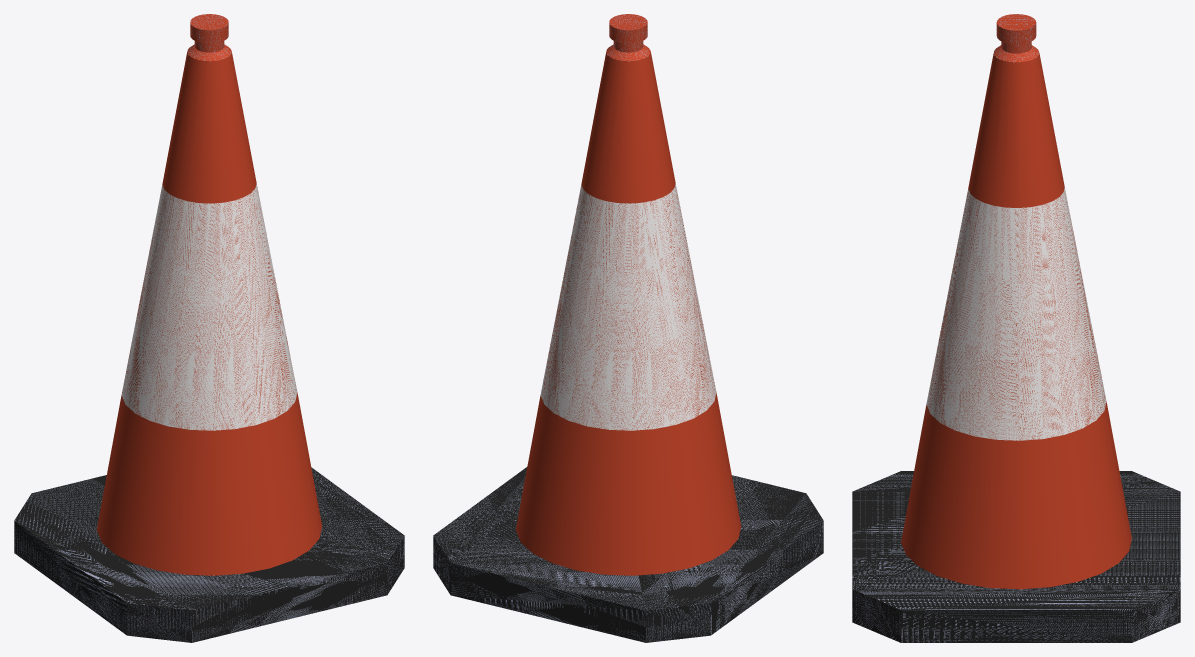
Rendered from large_cone.dae.
The picture shows the model from 3 angles, left to right: view 1: azimuth 30°, elevation 25°; view 2: azimuth 150°, elevation 25°; view 3: azimuth 270°, elevation 25°; orthographic projection. The views are drawn at different scales.
Visible parts, largest first — view 1: Cone (×4), Base; view 2: Cone (×4), Base; view 3: Cone (×4), Base.
Boxes of the visible parts, x1,y1,x2,y2 form: Cone (×4): [96, 14, 322, 575]; Base: [14, 467, 404, 642]; Cone (×4): [515, 14, 741, 575]; Base: [433, 467, 823, 642]; Cone (×4): [901, 14, 1131, 589]; Base: [852, 471, 1180, 642].
Bounding box in the file's own units: 21.26 × 21.26 × 39.37.
